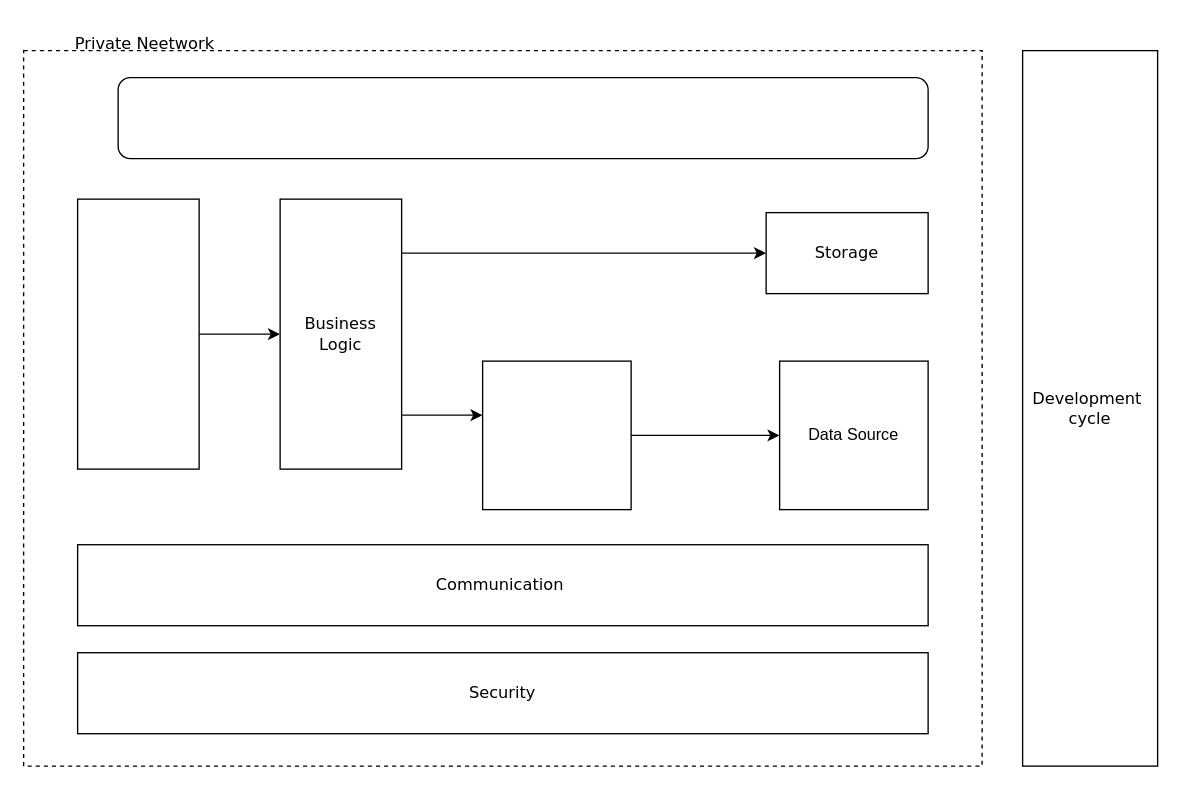
The diagram is 1181 pixels wide and 790 high, and some of its shapes have lost their labels. The centre of each missing label's shape, as x and y in pixels:
Data storage: pixel 556 435
Monitoring: pixel 522 117
Presentation: pixel 137 333
